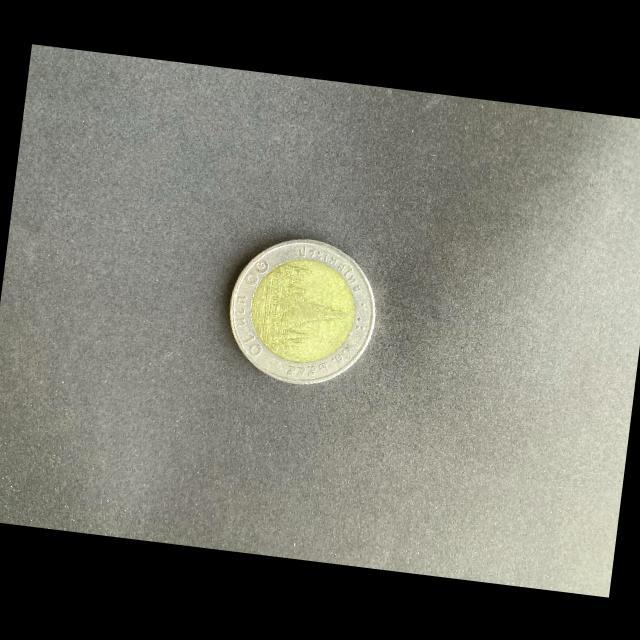10 Bath: (226, 235, 382, 390)
